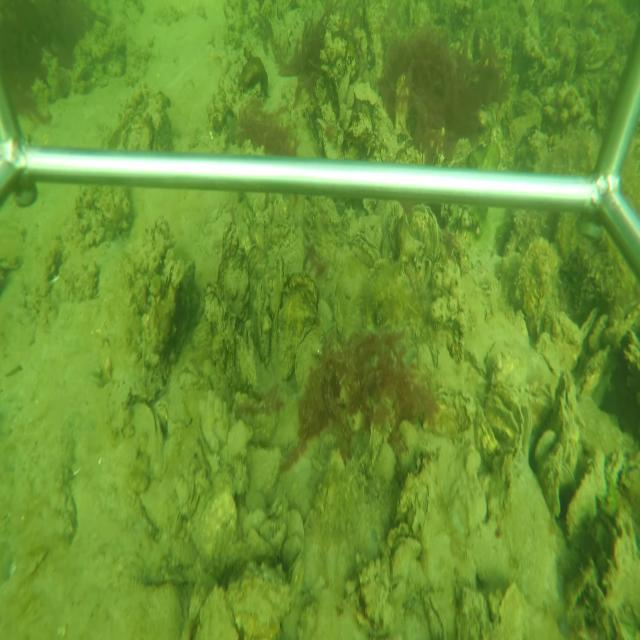Oyster-Closed: (274, 271, 321, 382), (554, 371, 580, 467), (293, 323, 325, 396), (387, 529, 424, 581), (255, 280, 271, 367), (422, 592, 448, 638), (561, 460, 576, 486)
Oyster-Indeterminate: (224, 565, 291, 638), (564, 444, 607, 545), (127, 399, 159, 461)
Oyster-Open: (485, 383, 527, 458)
